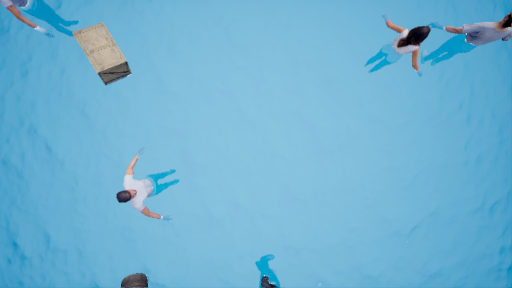person: (116, 154, 198, 217), (358, 17, 427, 82), (433, 10, 512, 63)
